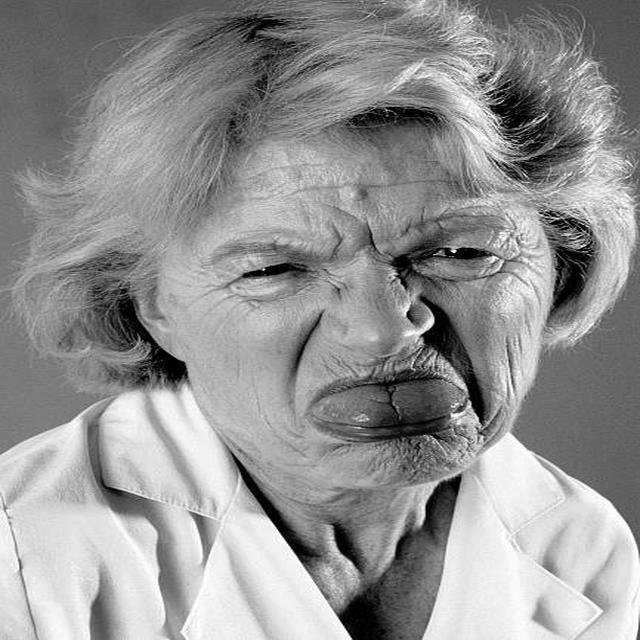Disgust: (172, 123, 557, 491)
